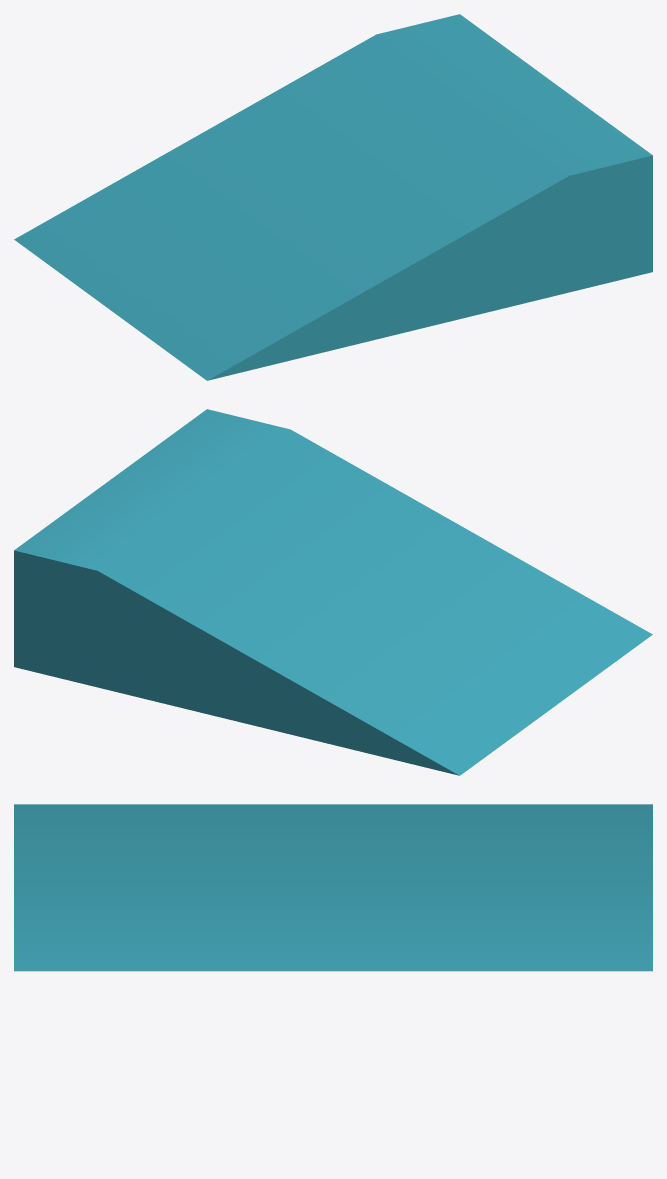
The model's file is Floor_Tranzit_B.FBX.
The picture shows the model from 3 angles, top to bottom: view 1: azimuth 30°, elevation 25°; view 2: azimuth 150°, elevation 25°; view 3: azimuth 270°, elevation 25°; orthographic projection. The views are drawn at different scales.
Parts seen in each view (by area): view 1: Floor_Tranzit_B; view 2: Floor_Tranzit_B; view 3: Floor_Tranzit_B.
Boxes of the visible parts, x1=… form: Floor_Tranzit_B: x1=14, y1=14, x2=652, y2=380; Floor_Tranzit_B: x1=14, y1=409, x2=652, y2=775; Floor_Tranzit_B: x1=14, y1=804, x2=652, y2=971.
Size of the model in its own units: 400 by 100 by 300.
